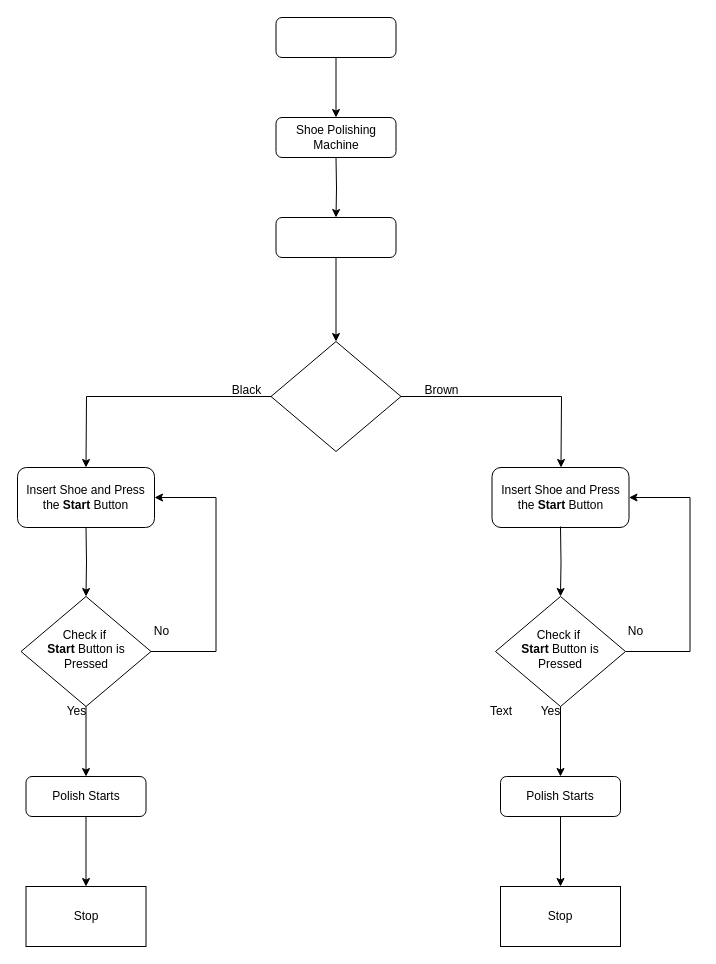
The diagram is 716 pixels wide and 964 high, and some of its shapes have lost their labels. Each missing label, with the centre of its shape:
Check if Black OR Brown: [335,396]
Insert Shoe Color: [335,237]
Start: [335,37]
